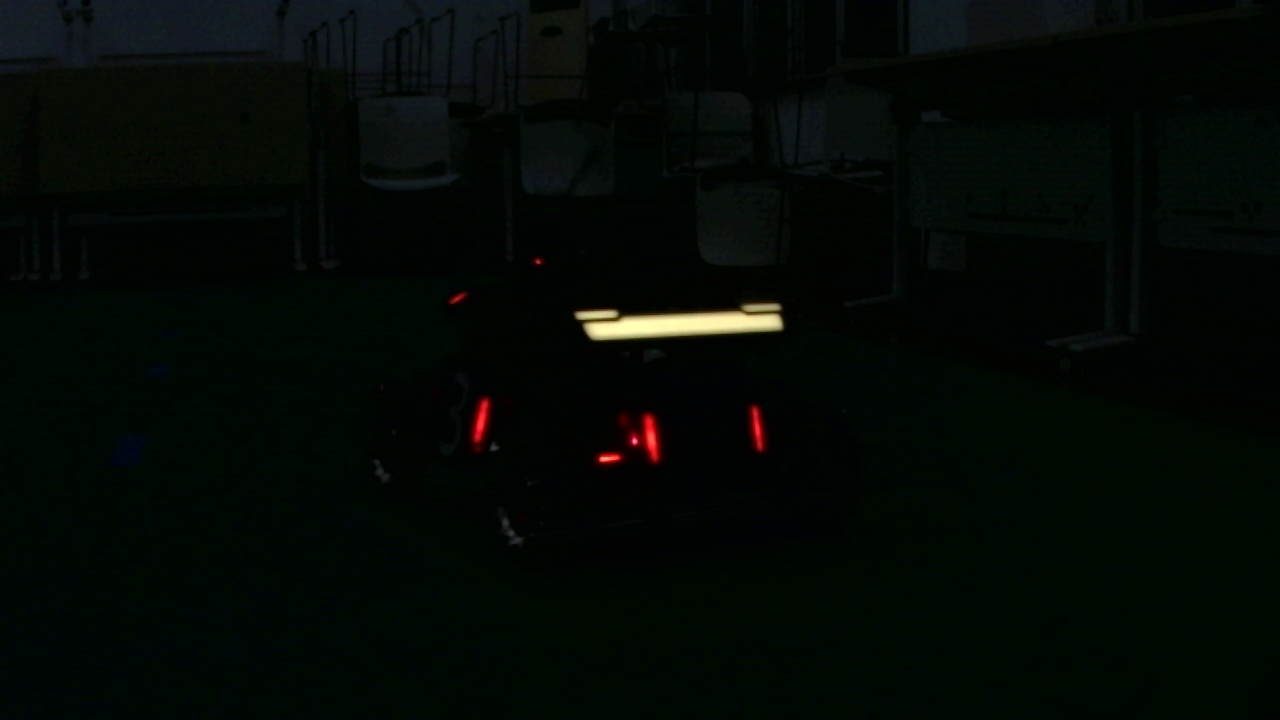lamp: (466, 394, 492, 445), (640, 404, 663, 460), (743, 402, 768, 449)
notpair1: (475, 392, 661, 474)
pair1: (640, 402, 767, 460)
